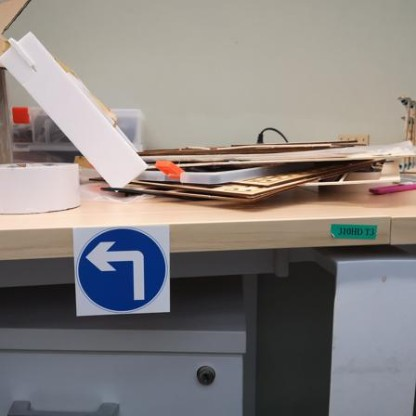left: (64, 216, 172, 312)
